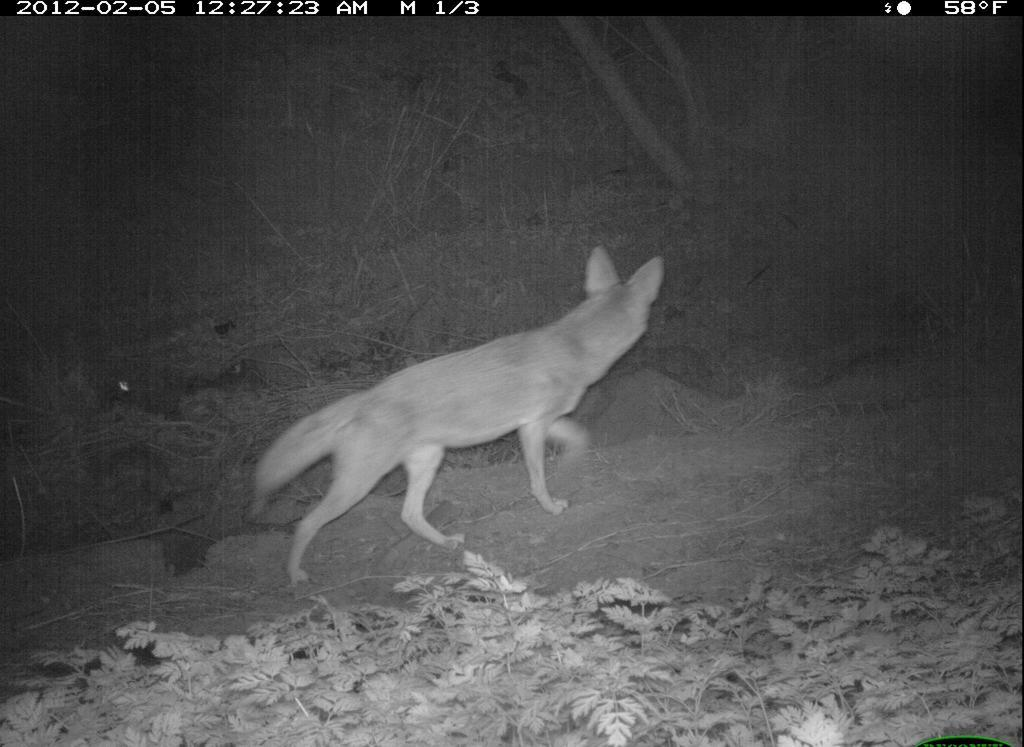coyote: (246, 241, 669, 587)
